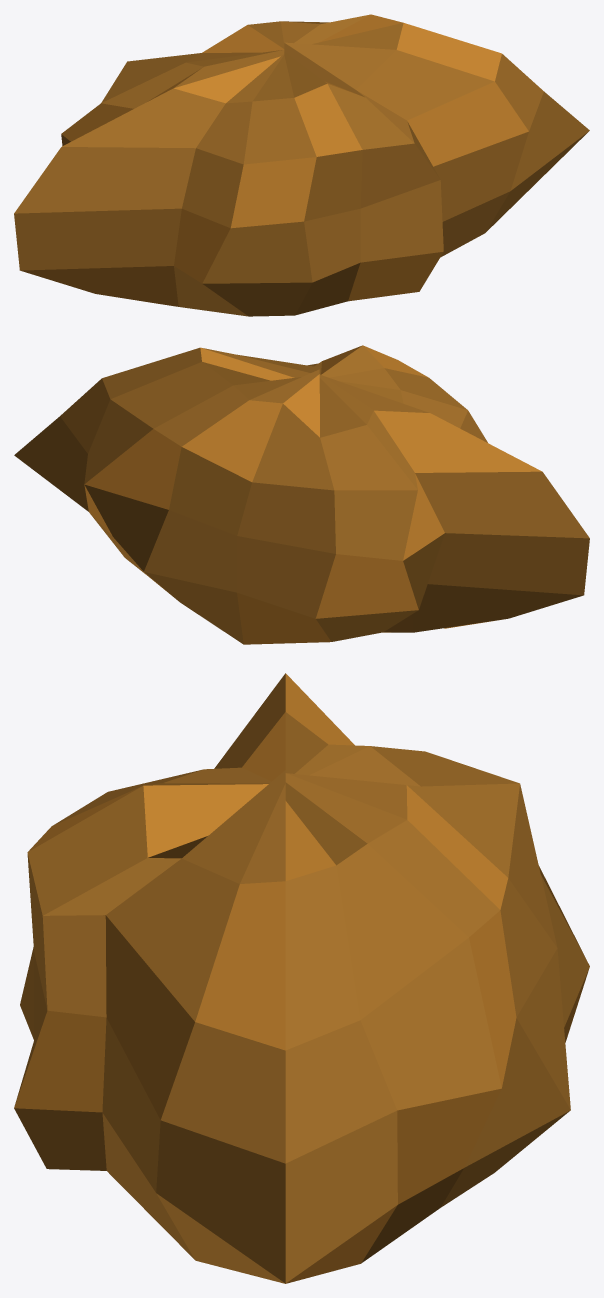
File: Clay.glb
3 renders of one model, top to bottom at view 1: azimuth 30°, elevation 25°; view 2: azimuth 150°, elevation 25°; view 3: azimuth 270°, elevation 25°, orthographic. The views are drawn at different scales.
Parts seen in each view (by area): view 1: Clay.001; view 2: Clay.001; view 3: Clay.001.
Part boxes in pixels (x1,y1,x2,y2): Clay.001: (14, 14, 589, 316); Clay.001: (14, 345, 589, 644); Clay.001: (14, 673, 589, 1283).
Size of the model in its own units: 0.4064 by 0.1554 by 0.2136.
